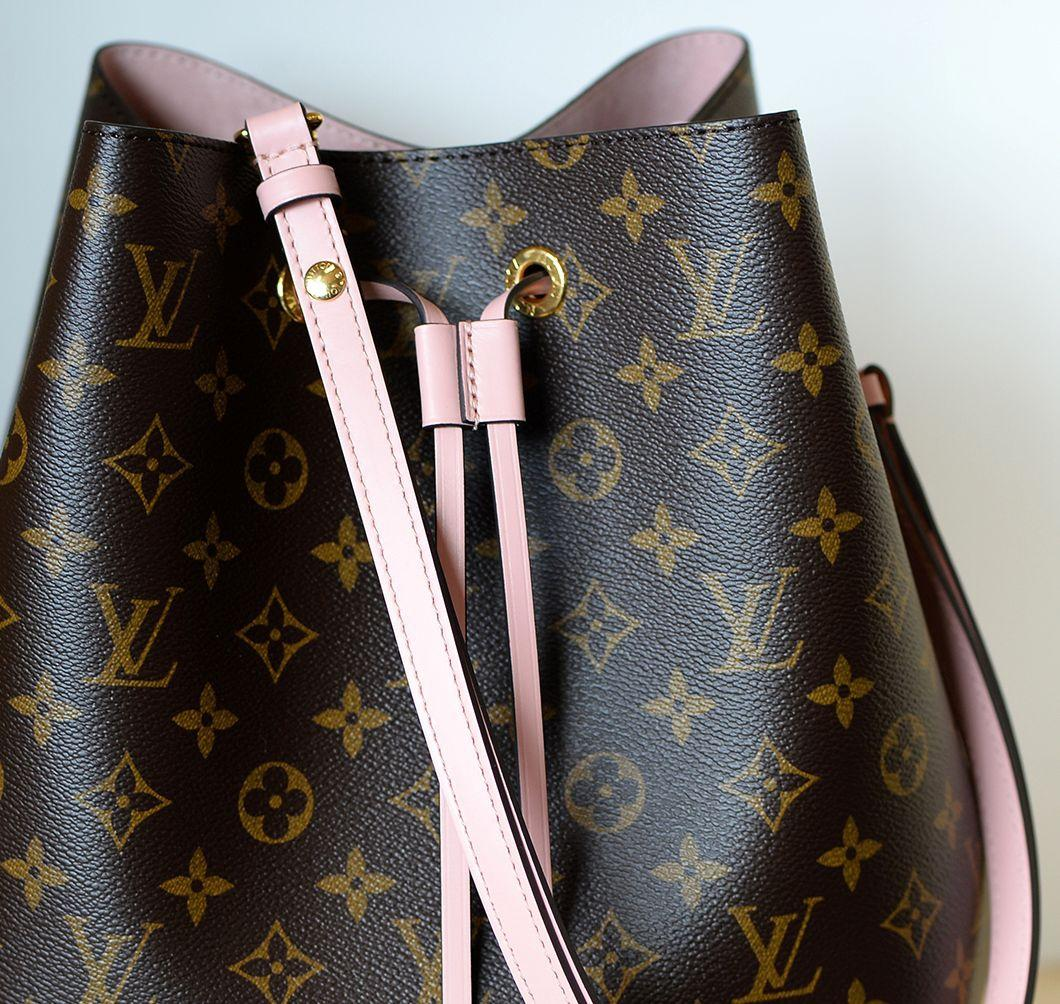LOUIS-VUITTON: (11, 111, 994, 1004)
